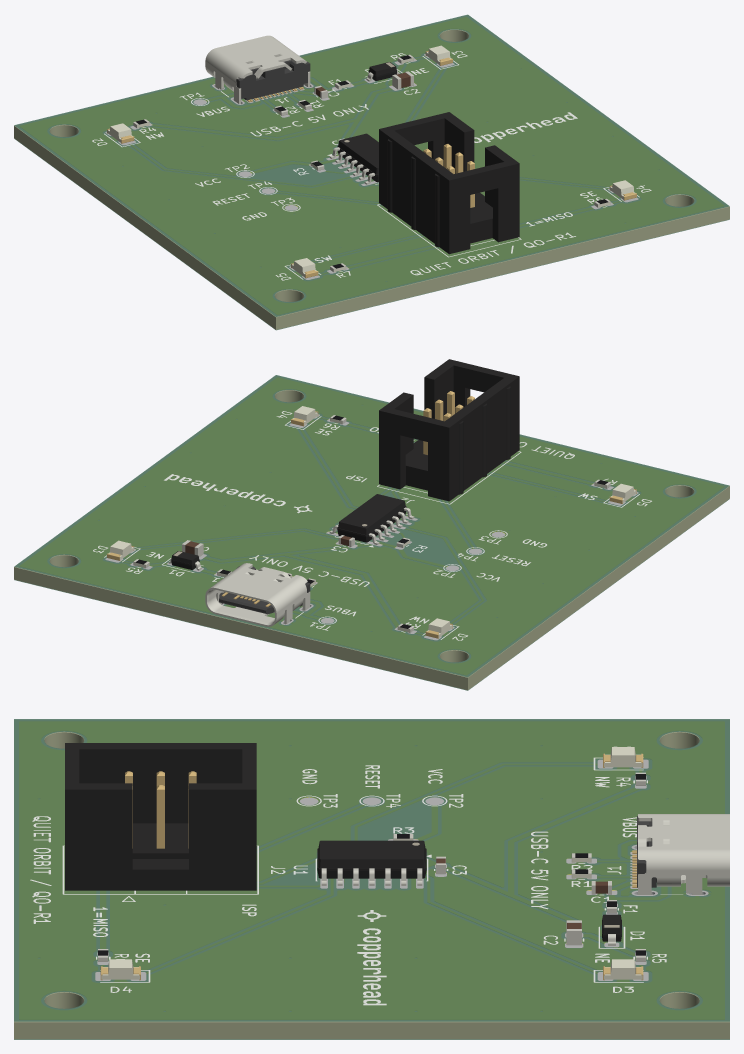
File: quiet-orbit-57mm.glb
3 renders of one model, top to bottom at view 1: azimuth 30°, elevation 25°; view 2: azimuth 150°, elevation 25°; view 3: azimuth 270°, elevation 25°, orthographic. The views are drawn at different scales.
Parts seen in each view (by area): view 1: =>[0:1:1:25], =>[0:1:1:20], =>[0:1:1:27], =>[0:1:1:15], =>[0:1:1:9], =>[0:1:1:23], =>[0:1:1:17], =>[0:1:1:21], =>[0:1:1:26]; view 2: =>[0:1:1:25], =>[0:1:1:20], =>[0:1:1:27], =>[0:1:1:15], =>[0:1:1:9], =>[0:1:1:23], =>[0:1:1:17], =>[0:1:1:21], =>[0:1:1:26]; view 3: =>[0:1:1:25], =>[0:1:1:20], =>[0:1:1:15], =>[0:1:1:27], =>[0:1:1:9], =>[0:1:1:23], =>[0:1:1:17], =>[0:1:1:11] (×3), =>[0:1:1:21], =>[0:1:1:26], =>[0:1:1:3].
Boxes of the visible parts, bbox=[...] form: =>[0:1:1:25]: bbox=[14, 14, 729, 316]; =>[0:1:1:20]: bbox=[20, 17, 723, 314]; =>[0:1:1:27]: bbox=[14, 15, 729, 329]; =>[0:1:1:15]: bbox=[379, 112, 519, 254]; =>[0:1:1:9]: bbox=[205, 35, 310, 103]; =>[0:1:1:23]: bbox=[92, 51, 651, 280]; =>[0:1:1:17]: bbox=[329, 133, 378, 184]; =>[0:1:1:21]: bbox=[105, 54, 638, 279]; =>[0:1:1:26]: bbox=[15, 139, 729, 330]; =>[0:1:1:25]: bbox=[14, 375, 729, 677]; =>[0:1:1:20]: bbox=[20, 378, 723, 674]; =>[0:1:1:27]: bbox=[14, 376, 729, 690]; =>[0:1:1:15]: bbox=[379, 359, 519, 501]; =>[0:1:1:9]: bbox=[205, 563, 310, 626]; =>[0:1:1:23]: bbox=[93, 411, 651, 640]; =>[0:1:1:17]: bbox=[329, 494, 414, 544]; =>[0:1:1:21]: bbox=[105, 414, 638, 640]; =>[0:1:1:26]: bbox=[14, 499, 729, 690]; =>[0:1:1:25]: bbox=[14, 719, 729, 1021]; =>[0:1:1:20]: bbox=[19, 722, 724, 1019]; =>[0:1:1:15]: bbox=[65, 743, 256, 890]; =>[0:1:1:27]: bbox=[14, 720, 729, 1039]; =>[0:1:1:9]: bbox=[632, 814, 729, 894]; =>[0:1:1:23]: bbox=[30, 746, 682, 1005]; =>[0:1:1:17]: bbox=[317, 840, 426, 885]; =>[0:1:1:11] (×3): bbox=[100, 747, 643, 980]; =>[0:1:1:21]: bbox=[95, 759, 708, 980]; =>[0:1:1:26]: bbox=[14, 1039, 729, 1039]; =>[0:1:1:3]: bbox=[602, 914, 621, 945].
Size of the model in its own units: 0.057 by 0.0121 by 0.057.
